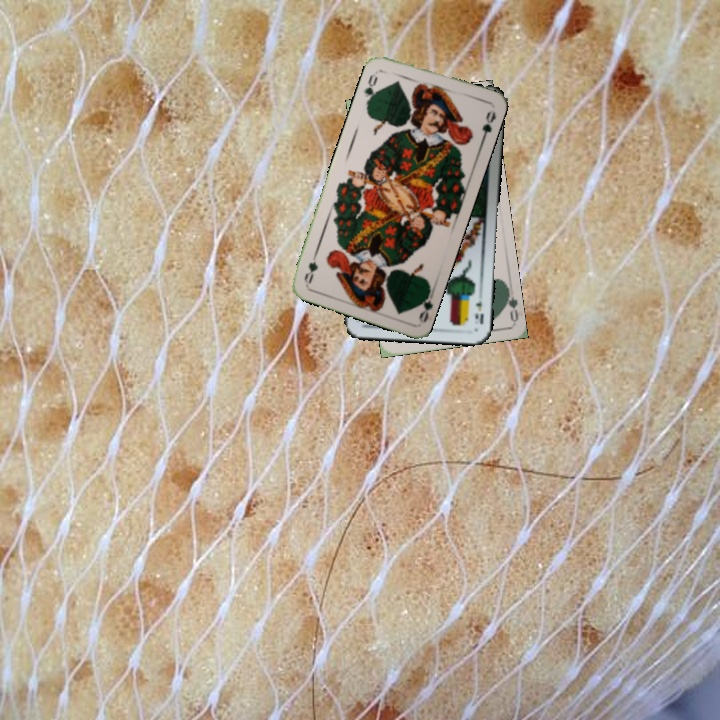EK: (470, 296, 486, 326)
GO: (413, 284, 438, 325), (499, 283, 521, 323), (360, 70, 381, 105)
